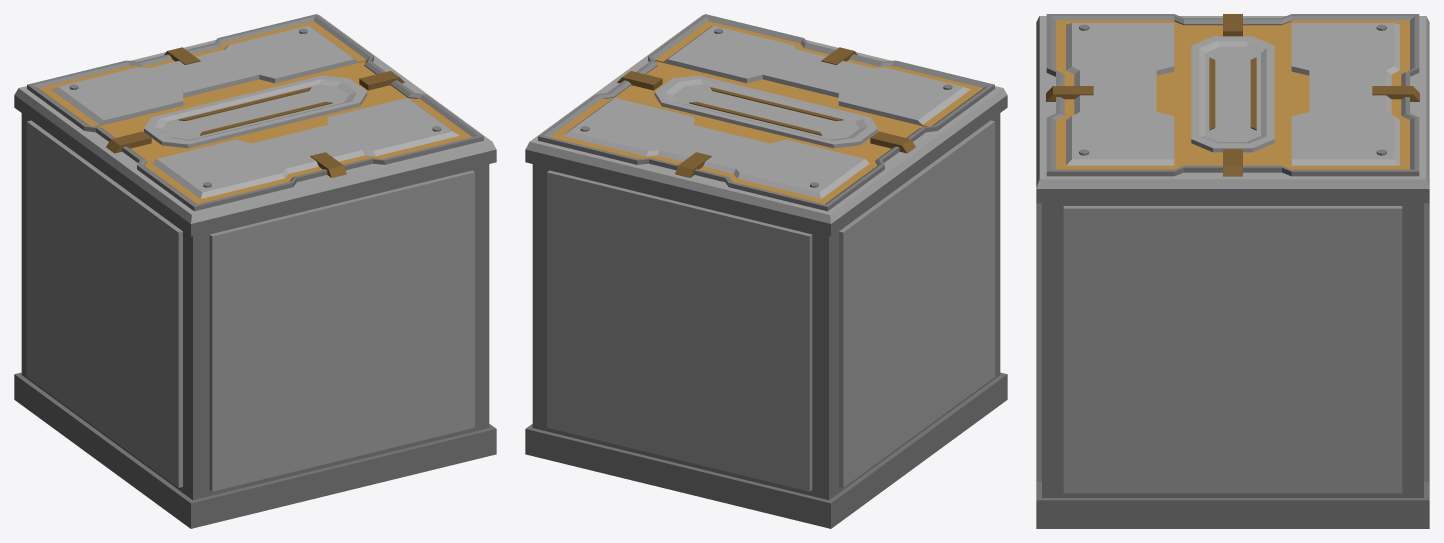
File: LabBlock_Orange_1m.gltf
The picture shows the model from 3 angles, left to right: view 1: azimuth 30°, elevation 25°; view 2: azimuth 150°, elevation 25°; view 3: azimuth 270°, elevation 25°; orthographic projection. The views are drawn at different scales.
Visible parts, largest first — view 1: LabBlock_Orange_1m; view 2: LabBlock_Orange_1m; view 3: LabBlock_Orange_1m.
Part boxes in pixels (x1,y1,x2,y2): LabBlock_Orange_1m: [14, 14, 496, 528]; LabBlock_Orange_1m: [525, 14, 1007, 528]; LabBlock_Orange_1m: [1036, 14, 1429, 528].
Bounding box in the file's own units: 1 × 1 × 1.
